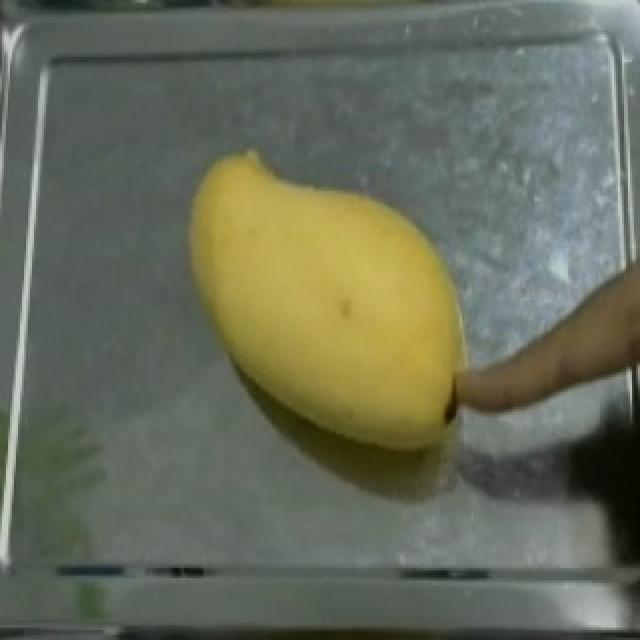fruit: (164, 141, 502, 479)
